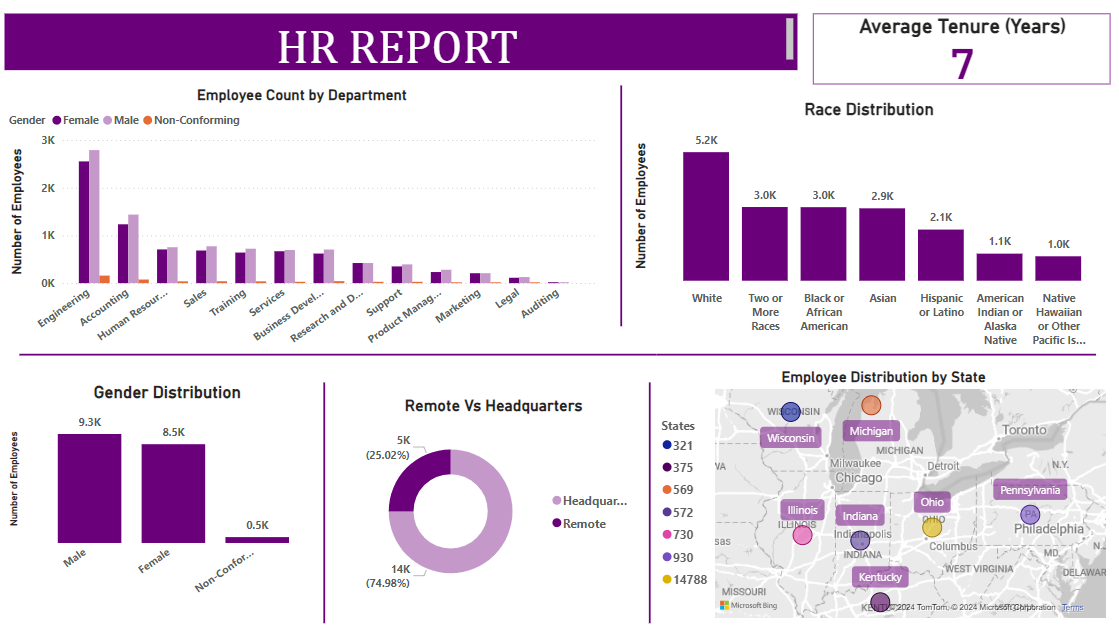

The page's visual inventory and layout, read from the dashboard file:
{"tool":"powerbi","page":{"name":"Page 1","canvas":[1280,720],"ordinal":0},"visuals":[{"type":"textbox","box":[16,16,896,64],"z":0},{"type":"card","title":"Average Tenure (Years)","fields":{"Values":["Sum(avg tenure.Column1)"]},"box":[928,16,336,80],"z":1},{"type":"columnChart","title":"Gender Distribution","fields":{"Category":["gender.Column1"],"Y":["Sum(gender.Column2)"]},"box":[16,432,368,256],"z":2},{"type":"clusteredColumnChart","title":"Employee Count by Department","fields":{"Y":["Sum(gender -department.Column3)"],"Category":["gender -department.Column1"],"Series":["gender -department.Column2"]},"box":[16,96,672,304],"z":3},{"type":"donutChart","title":"Remote Vs Headquarters","fields":{"Category":["remote vs headquarters.Column1"],"Y":["Sum(remote vs headquarters.Column2)"]},"box":[400,448,336,240],"z":4},{"type":"map","title":"Employee Distribution by State","fields":{"Series":["state distribution.Column2"],"Category":["state distribution.Column1"]},"box":[752,416,512,288],"z":5},{"type":"columnChart","title":"Race Distribution","fields":{"Category":["race distribution.Column1"],"Y":["Sum(race distribution.Column2)"]},"box":[720,112,544,288],"z":6},{"type":"shape","box":[752,384,496,32],"z":7},{"type":"shape","box":[688,96,48,272],"z":8},{"type":"shape","box":[352,432,48,272],"z":9},{"type":"shape","box":[720,432,48,272],"z":10},{"type":"shape","box":[32,384,720,32],"z":11}]}

Visuals, with their boxes in screenshot pixels (x1, y1, x2, y2), scaled from the page's 1280x720 canvas onto the 1119x632 screenshot:
textbox: 14/14/797/70
"Average Tenure (Years)" card: 811/14/1105/84
"Gender Distribution" columnChart: 14/379/336/604
"Employee Count by Department" clusteredColumnChart: 14/84/601/351
"Remote Vs Headquarters" donutChart: 350/393/643/604
"Employee Distribution by State" map: 657/365/1105/618
"Race Distribution" columnChart: 629/98/1105/351
shape: 657/337/1091/365
shape: 601/84/643/323
shape: 308/379/350/618
shape: 629/379/671/618
shape: 28/337/657/365
